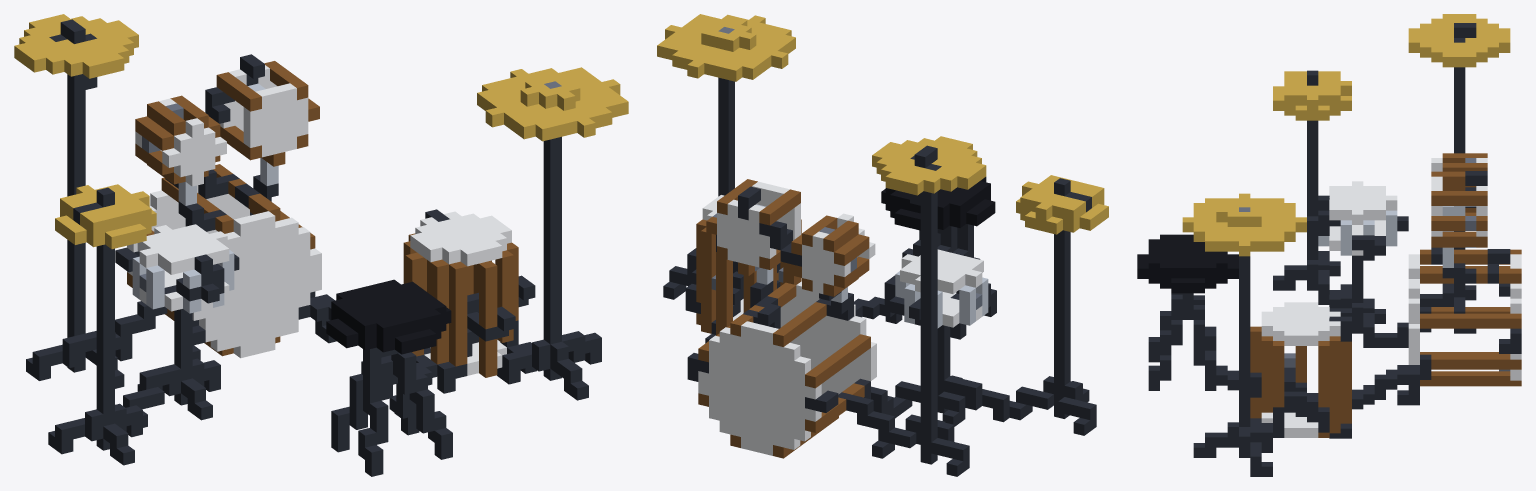
Rendered from drums.glb.
3 renders of one model, left to right at view 1: azimuth 30°, elevation 25°; view 2: azimuth 150°, elevation 25°; view 3: azimuth 270°, elevation 25°, orthographic. The views are drawn at different scales.
Visible parts, largest first — view 1: drums; view 2: drums; view 3: drums.
Part boxes in pixels (x1=…): drums: x1=14, y1=14, x2=628, y2=476; drums: x1=657, y1=14, x2=1108, y2=476; drums: x1=1137, y1=14, x2=1521, y2=476.
Size of the model in its own units: 2.2 by 1.4 by 1.7.
